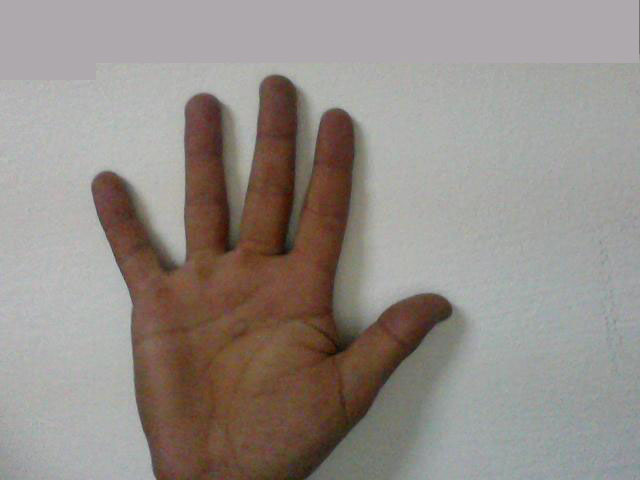hand: (79, 62, 476, 480)
